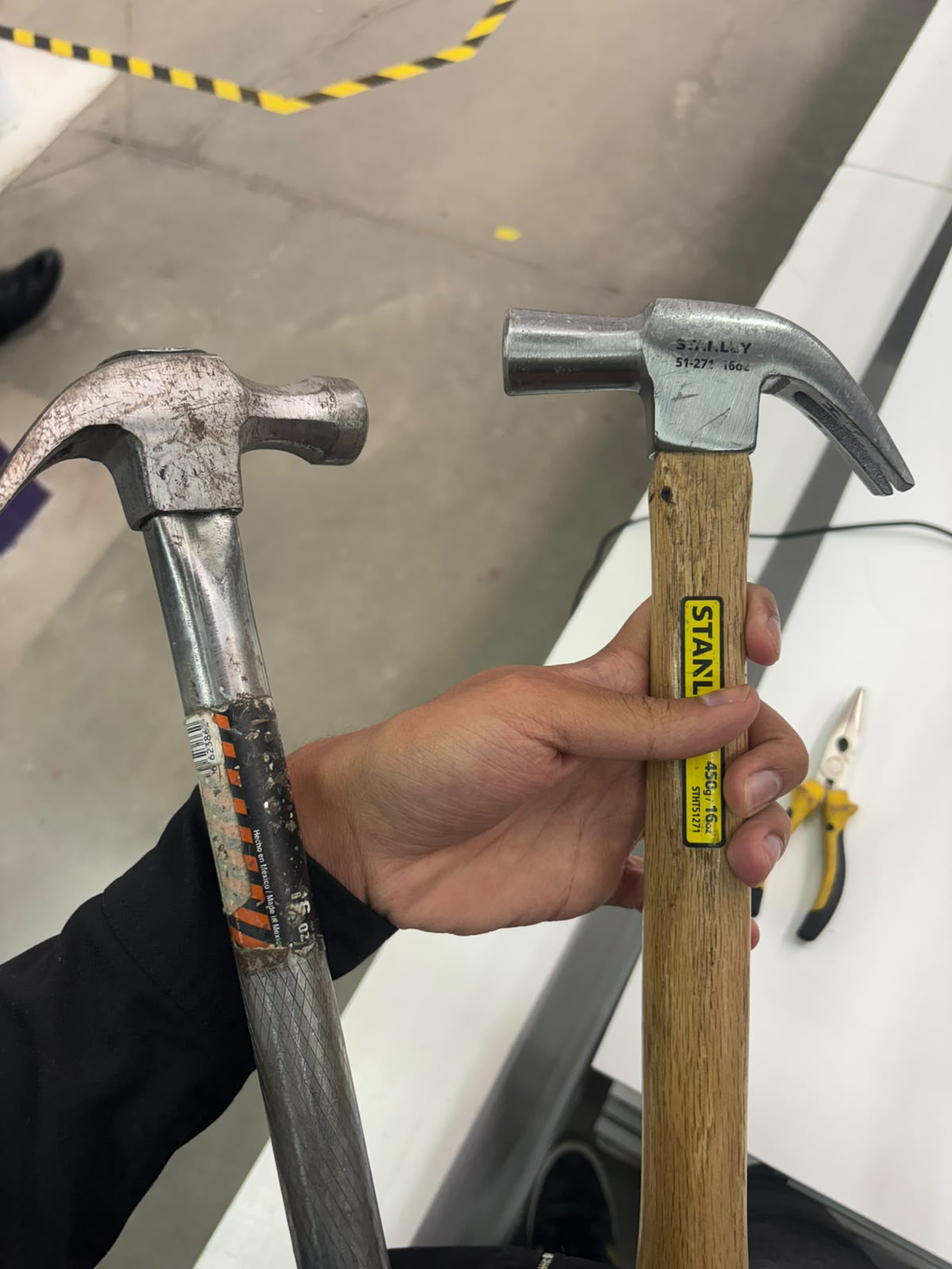hammer: (5, 322, 477, 1267), (498, 301, 915, 1269)
plier: (805, 673, 872, 962)
